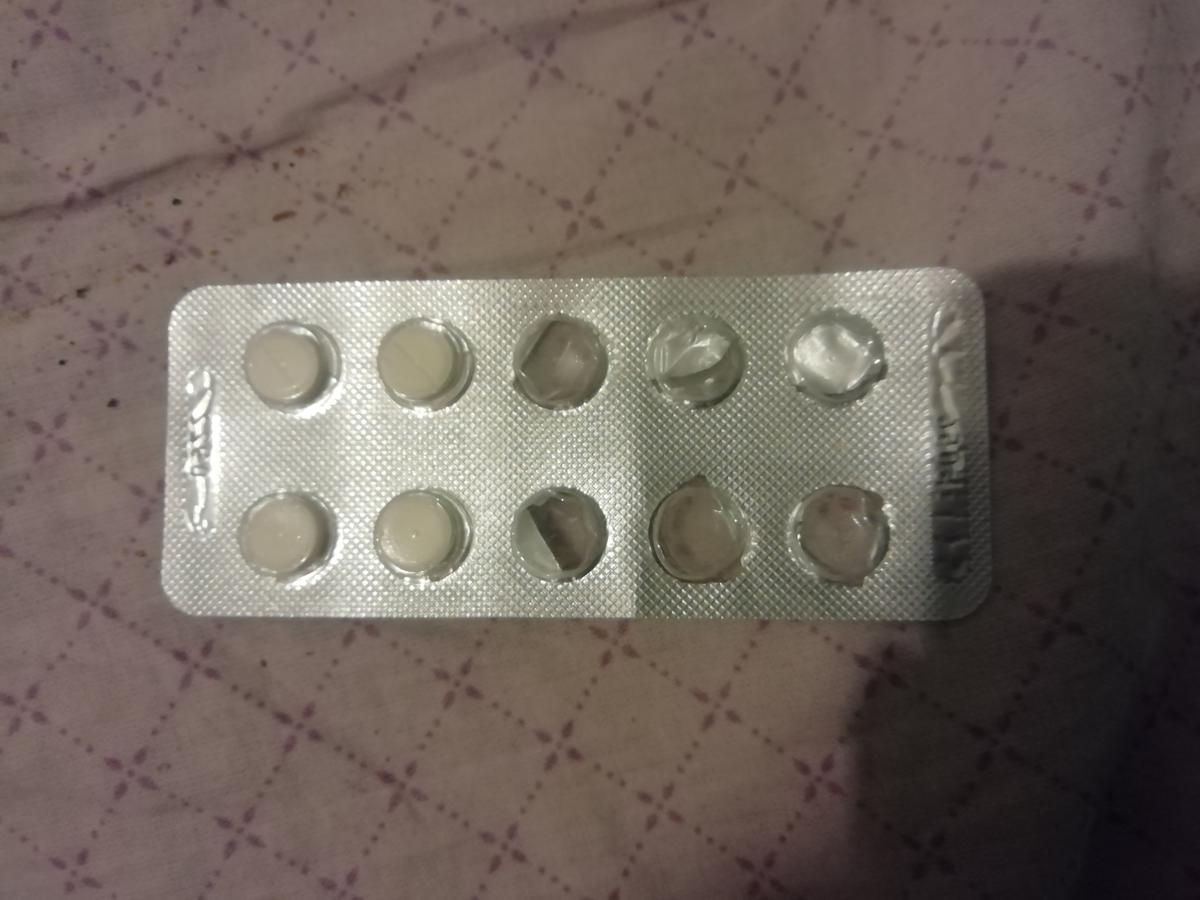tablet: (234, 315, 348, 415), (367, 318, 481, 418), (226, 487, 340, 587), (361, 487, 475, 587)
